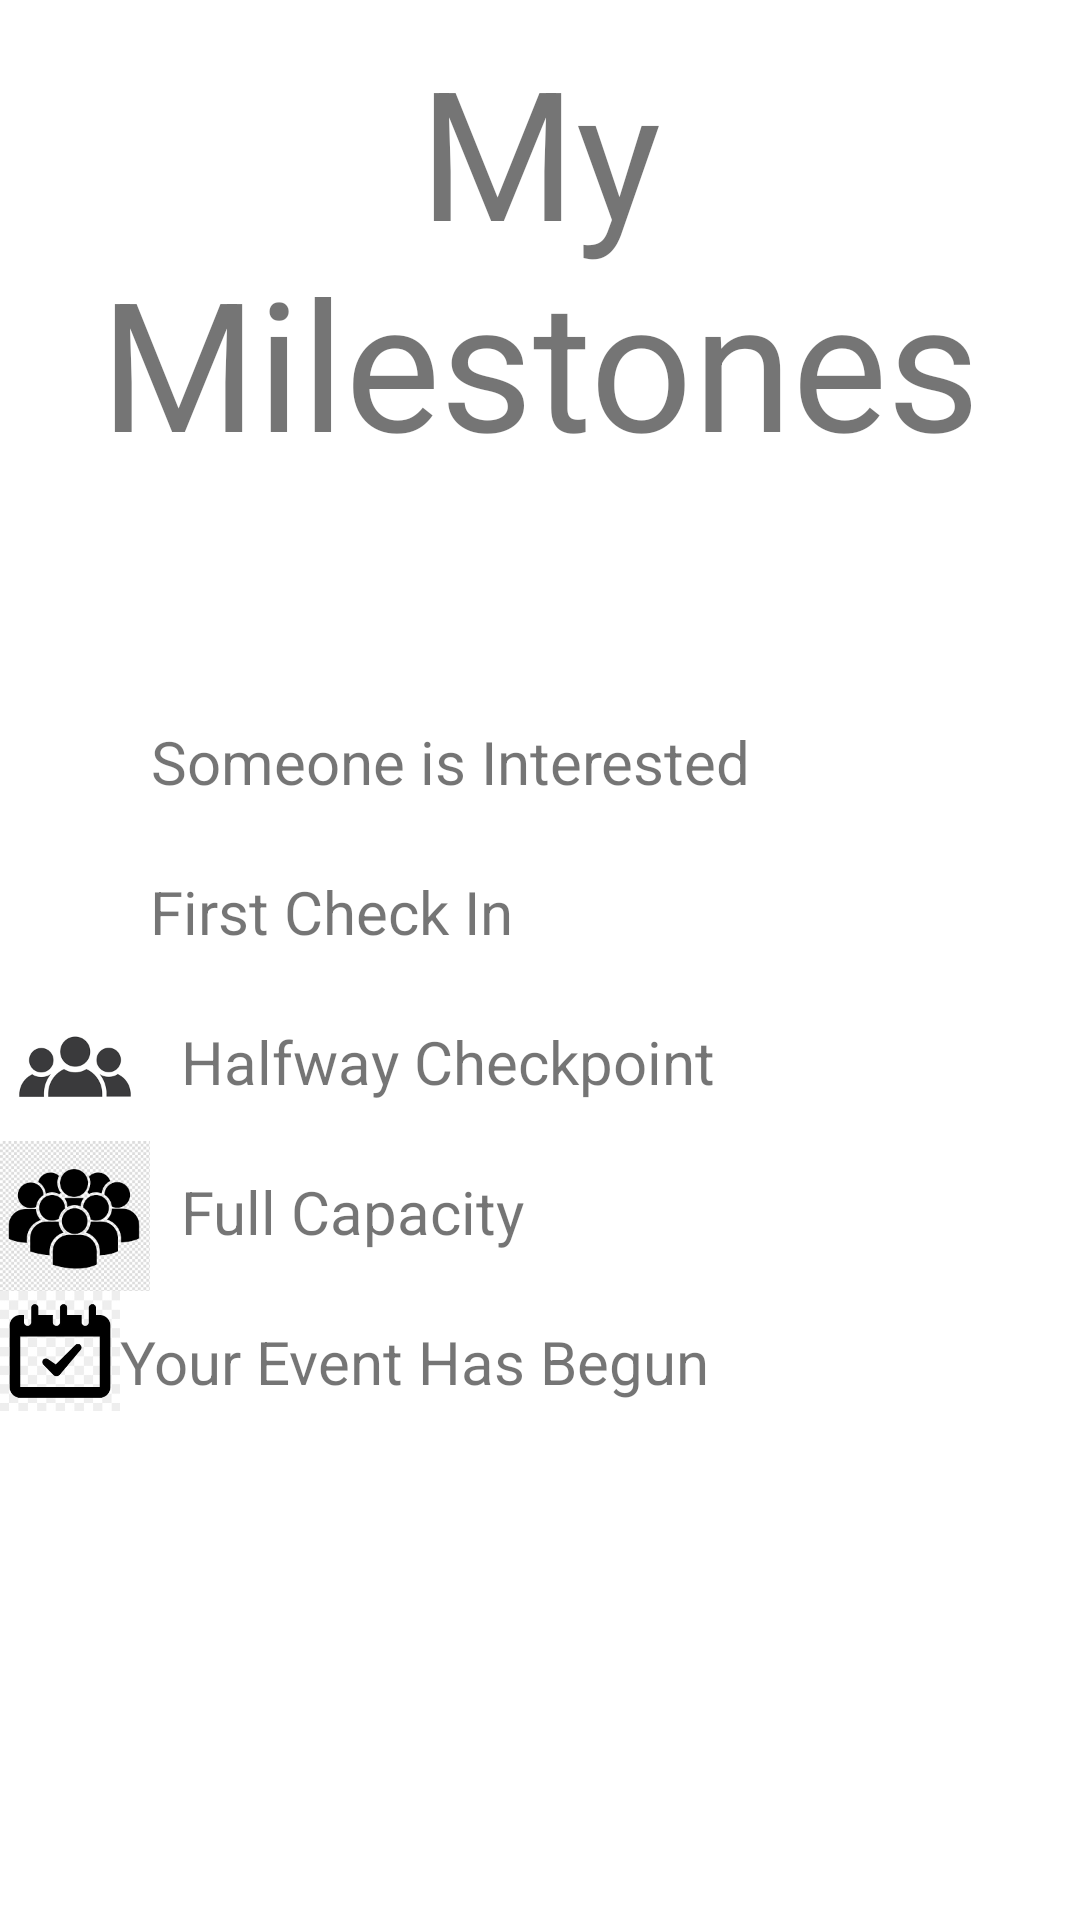

Icons on this 1080px x 1920px Android screen, each with its box as region(x1, y1, x2, y2):
event mile: region(9, 1304, 111, 1398)
